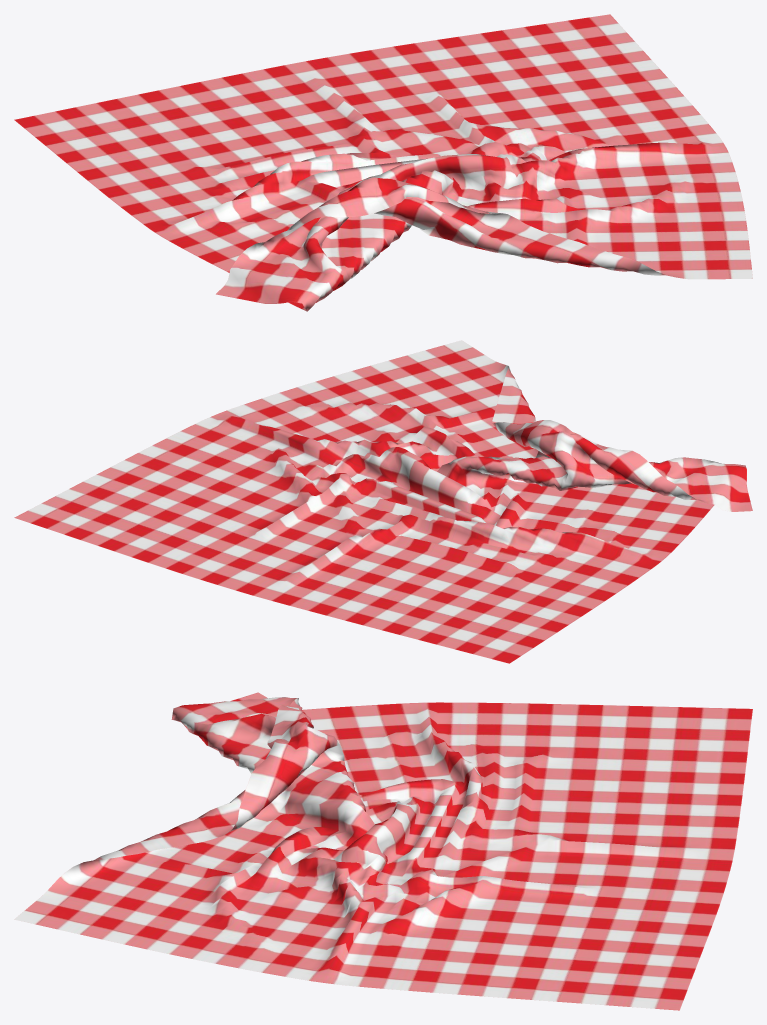
File: blanket.obj
3 views of the same model, one above another, from view 1: azimuth 30°, elevation 25°; view 2: azimuth 150°, elevation 25°; view 3: azimuth 270°, elevation 25° (orthographic). The views are drawn at different scales.
Parts seen in each view (by area): view 1: blanket; view 2: blanket; view 3: blanket.
Part boxes in pixels (x1=…): blanket: x1=14, y1=14, x2=752, y2=311; blanket: x1=14, y1=340, x2=752, y2=663; blanket: x1=14, y1=692, x2=752, y2=1010.
Size of the model in its own units: 0.2833 by 0.0298 by 0.2856.
